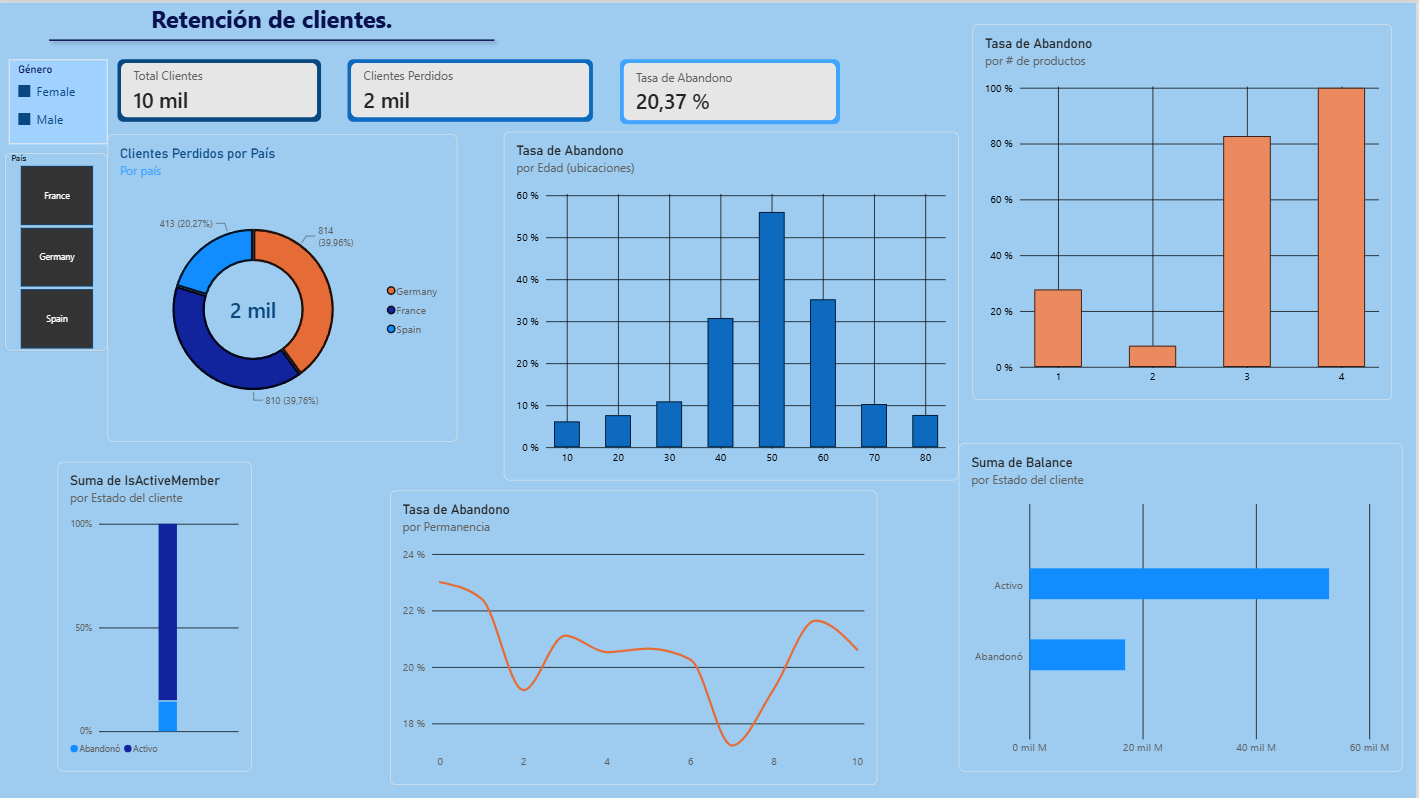

This screenshot's page, from the dashboard's own definition file:
{"tool":"powerbi","page":{"name":"Página 1","canvas":[1920,1080],"ordinal":0},"visuals":[{"type":"textbox","box":[10.3,0,716.3,57.6],"z":0},{"type":"shape","box":[58,0,621.6,100.9],"z":1000},{"type":"cardVisual","fields":{"Data":["_Medidas.Total Clientes"]},"box":[160.1,75.5,276.1,84.7],"z":2000},{"type":"cardVisual","fields":{"Data":["_Medidas.Clientes Perdidos"]},"box":[471.2,75.5,333.1,84.7],"z":3000},{"type":"cardVisual","fields":{"Data":["_Medidas.Tasa de Abandono"]},"box":[841.1,75.5,298.2,88.3],"z":4000},{"type":"slicer","fields":{"Values":["Churn_Modelling.Geography"]},"box":[6,204,139,268],"z":5000},{"type":"slicer","fields":{"Values":["Churn_Modelling.Gender"]},"box":[11,75.5,134.4,116],"z":6000},{"type":"donutChart","fields":{"Category":["Churn_Modelling.Geography"],"Y":["_Medidas.Clientes Perdidos"]},"box":[145.7,178.6,474.3,417.1],"z":7000},{"type":"clusteredColumnChart","fields":{"Category":["Churn_Modelling.Age (ubicaciones)"],"Y":["_Medidas.Tasa de Abandono"]},"box":[682.8,174.8,616.6,473],"z":8000},{"type":"barChart","fields":{"Category":["Churn_Modelling.Estado del cliente"],"Y":["Sum(Churn_Modelling.Balance)"]},"box":[1300,596,601.8,445.4],"z":9000},{"type":"clusteredColumnChart","fields":{"Category":["Churn_Modelling.NumOfProducts"],"Y":["_Medidas.Tasa de Abandono"]},"box":[1317.8,29.4,568.7,509.8],"z":9001},{"type":"hundredPercentStackedColumnChart","fields":{"Series":["Churn_Modelling.Estado del cliente"],"Y":["Sum(Churn_Modelling.IsActiveMember)"]},"box":[78,622,263.2,419.6],"z":9002},{"type":"lineChart","fields":{"Category":["Churn_Modelling.Tenure"],"Y":["_Medidas.Tasa de Abandono"]},"box":[528.2,660.7,660.7,399.4],"z":9003}]}

Visuals, with their boxes in screenshot pixels (x1, y1, x2, y2), scaled from the page's 1920x1080 canvas onto the 1419x798 screenshot:
textbox: <region>8, 0, 537, 43</region>
shape: <region>43, 0, 502, 75</region>
cardVisual - _Medidas.Total Clientes: <region>118, 56, 322, 118</region>
cardVisual - _Medidas.Clientes Perdidos: <region>348, 56, 594, 118</region>
cardVisual - _Medidas.Tasa de Abandono: <region>622, 56, 842, 121</region>
slicer - Churn_Modelling.Geography: <region>4, 151, 107, 349</region>
slicer - Churn_Modelling.Gender: <region>8, 56, 107, 141</region>
donutChart - Churn_Modelling.Geography x _Medidas.Clientes Perdidos: <region>108, 132, 458, 440</region>
clusteredColumnChart - Churn_Modelling.Age (ubicaciones) x _Medidas.Tasa de Abandono: <region>505, 129, 960, 479</region>
barChart - Churn_Modelling.Estado del cliente x Sum(Churn_Modelling.Balance): <region>961, 440, 1406, 769</region>
clusteredColumnChart - Churn_Modelling.NumOfProducts x _Medidas.Tasa de Abandono: <region>974, 22, 1394, 398</region>
hundredPercentStackedColumnChart - Churn_Modelling.Estado del cliente x Sum(Churn_Modelling.IsActiveMember): <region>58, 460, 252, 770</region>
lineChart - Churn_Modelling.Tenure x _Medidas.Tasa de Abandono: <region>390, 488, 879, 783</region>
